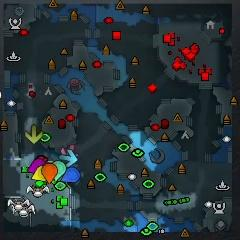p1: (60, 167, 82, 183)
p2: (53, 160, 66, 180)
p3: (27, 158, 46, 173)
p4: (31, 166, 48, 182)
p5: (41, 163, 58, 184)
x1: (61, 144, 77, 157)
x2: (24, 125, 43, 144)
x3: (59, 150, 77, 168)
